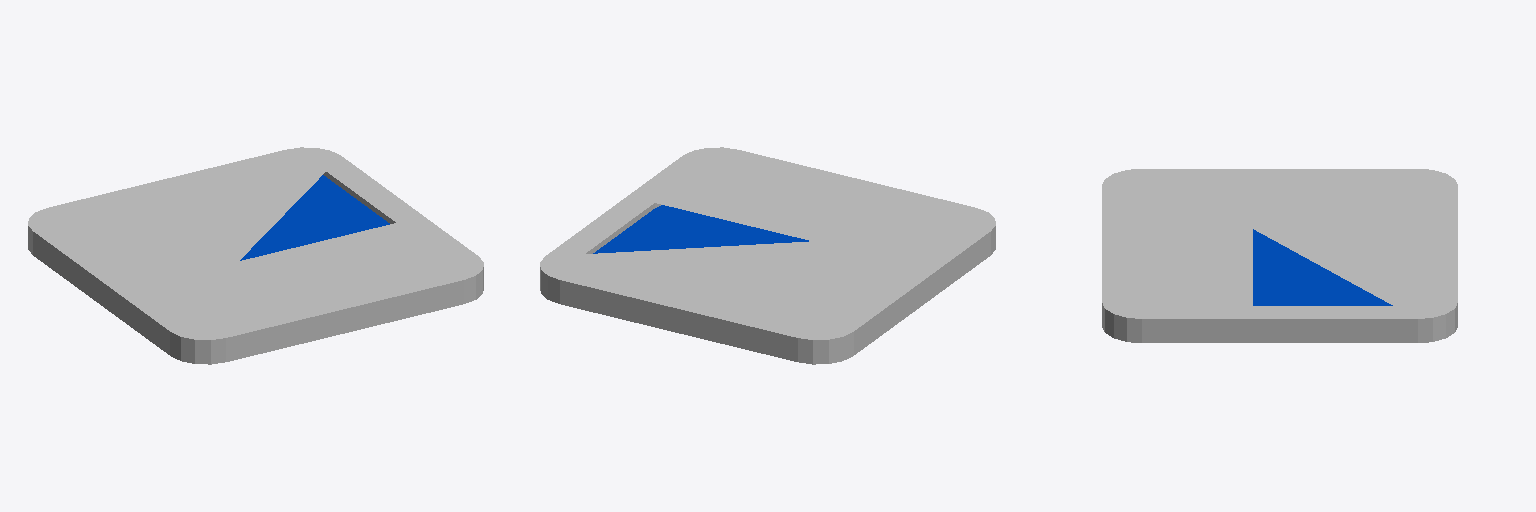
The model's file is sammark.obj.
3 views of the same model, side by side, from view 1: azimuth 30°, elevation 25°; view 2: azimuth 150°, elevation 25°; view 3: azimuth 270°, elevation 25° (orthographic).
Visible parts, largest first — view 1: Plane, Plane.001; view 2: Plane, Plane.001; view 3: Plane, Plane.001.
Boxes of the visible parts, <box> form: Plane: <box>28,147,483,364</box>; Plane.001: <box>240,175,389,260</box>; Plane: <box>540,147,995,364</box>; Plane.001: <box>593,205,808,253</box>; Plane: <box>1102,169,1457,342</box>; Plane.001: <box>1253,229,1392,305</box>.
Bounding box in the file's own units: 2 × 0.1506 × 2.